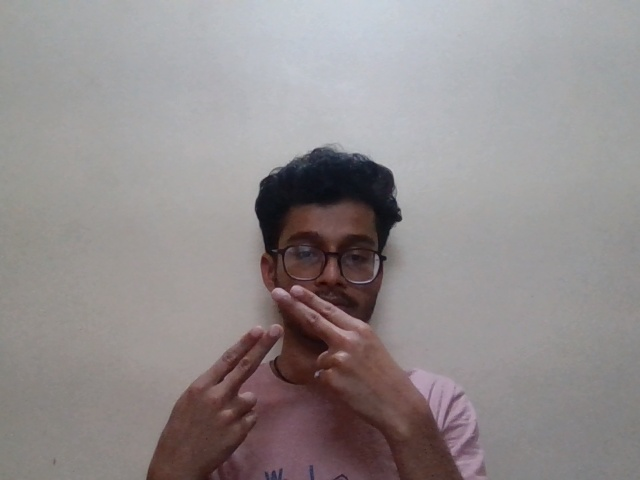my-name-is: (158, 289, 450, 437)
